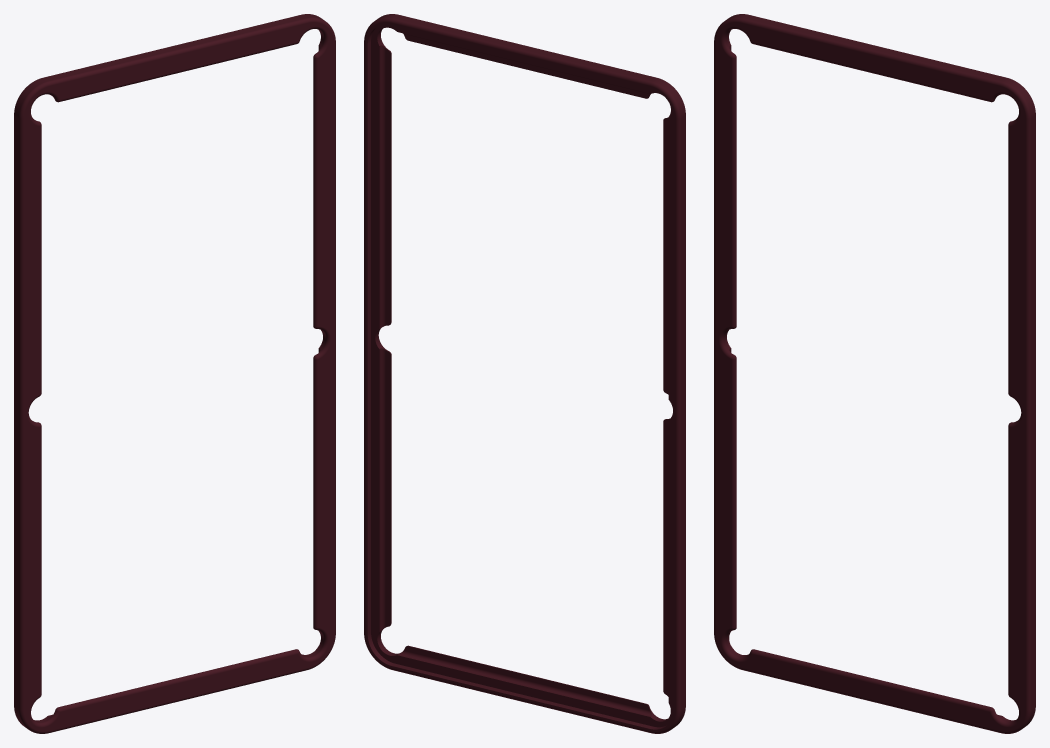
The model's file is Part Studio 1 - Part 2.obj.
3 views of the same model, side by side, from view 1: azimuth 30°, elevation 25°; view 2: azimuth 150°, elevation 25°; view 3: azimuth 330°, elevation 25° (orthographic).
Parts seen in each view (by area): view 1: mesh66, mesh77, mesh81, mesh1, mesh12, mesh69, mesh56, mesh74, mesh68, mesh34, mesh45, mesh75 (+2 smaller); view 2: mesh91, mesh92, mesh81, mesh89, mesh93, mesh19, mesh7, mesh6, mesh16, mesh49, mesh38, mesh88 (+10 smaller); view 3: mesh66, mesh68, mesh72, mesh45, mesh34, mesh69, mesh56, mesh74, mesh77, mesh1, mesh12, mesh75 (+2 smaller).
Part boxes in pixels (x1=…): mesh66: x1=24, y1=22, x2=333, y2=731; mesh77: x1=19, y1=119, x2=23, y2=709; mesh81: x1=14, y1=116, x2=18, y2=708; mesh1: x1=313, y1=359, x2=318, y2=627; mesh12: x1=313, y1=58, x2=318, y2=326; mesh69: x1=48, y1=18, x2=307, y2=85; mesh56: x1=59, y1=649, x2=297, y2=711; mesh74: x1=44, y1=15, x2=305, y2=80; mesh68: x1=334, y1=43, x2=335, y2=634; mesh34: x1=39, y1=125, x2=41, y2=394; mesh45: x1=39, y1=426, x2=41, y2=695; mesh75: x1=50, y1=668, x2=307, y2=732; mesh91: x1=371, y1=24, x2=673, y2=727; mesh92: x1=366, y1=22, x2=675, y2=731; mesh81: x1=681, y1=116, x2=685, y2=708; mesh89: x1=676, y1=119, x2=680, y2=709; mesh93: x1=367, y1=42, x2=370, y2=634; mesh19: x1=380, y1=45, x2=385, y2=327; mesh7: x1=380, y1=348, x2=385, y2=630; mesh6: x1=385, y1=350, x2=390, y2=627; mesh16: x1=385, y1=48, x2=390, y2=325; mesh49: x1=663, y1=419, x2=668, y2=696; mesh38: x1=663, y1=117, x2=668, y2=394; mesh88: x1=392, y1=18, x2=651, y2=85; mesh66: x1=716, y1=22, x2=1025, y2=731; mesh68: x1=1026, y1=119, x2=1030, y2=709; mesh72: x1=1031, y1=116, x2=1035, y2=708; mesh45: x1=731, y1=359, x2=736, y2=627; mesh34: x1=731, y1=58, x2=736, y2=326; mesh69: x1=742, y1=18, x2=1001, y2=85; mesh56: x1=752, y1=649, x2=991, y2=711; mesh74: x1=744, y1=15, x2=1005, y2=80; mesh77: x1=714, y1=43, x2=715, y2=634; mesh1: x1=1008, y1=426, x2=1010, y2=695; mesh12: x1=1008, y1=125, x2=1010, y2=394; mesh75: x1=742, y1=668, x2=999, y2=732.
Size of the model in its own units: 0.186 by 0.366 by 0.0083.
